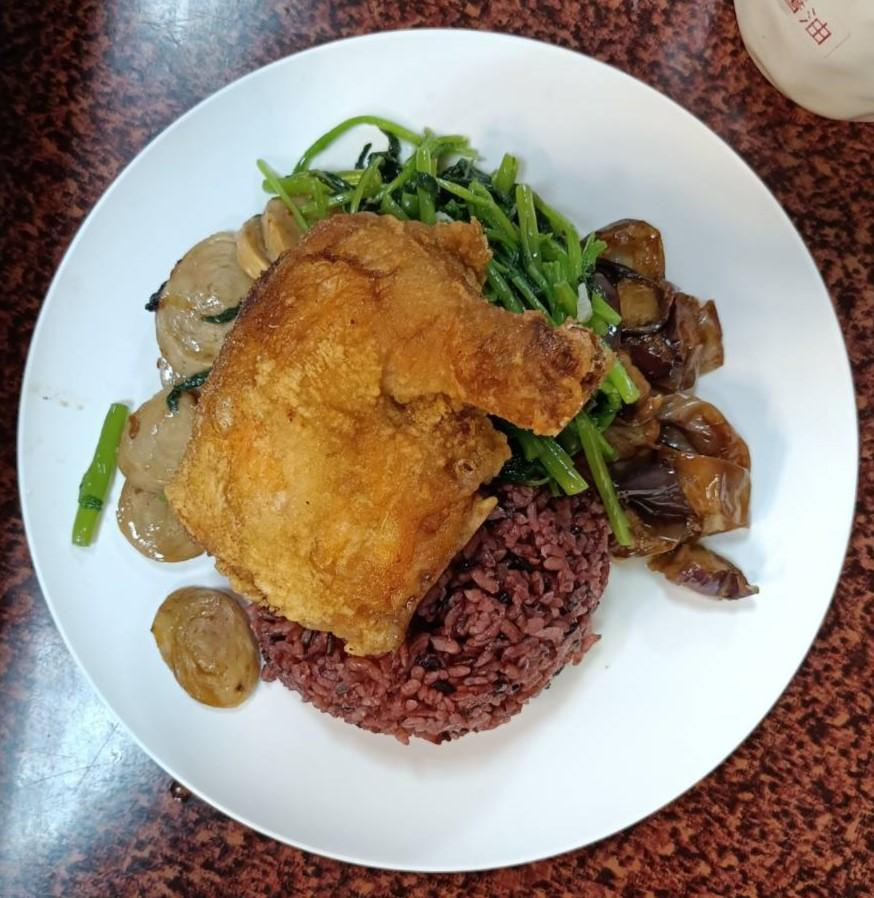big fried chicken leg: (20, 16, 868, 880)
braised fish: (236, 452, 608, 738)
braised fish fillet: (264, 126, 628, 500), (124, 202, 298, 719), (592, 206, 772, 615)
brown rice: (167, 202, 598, 656)
